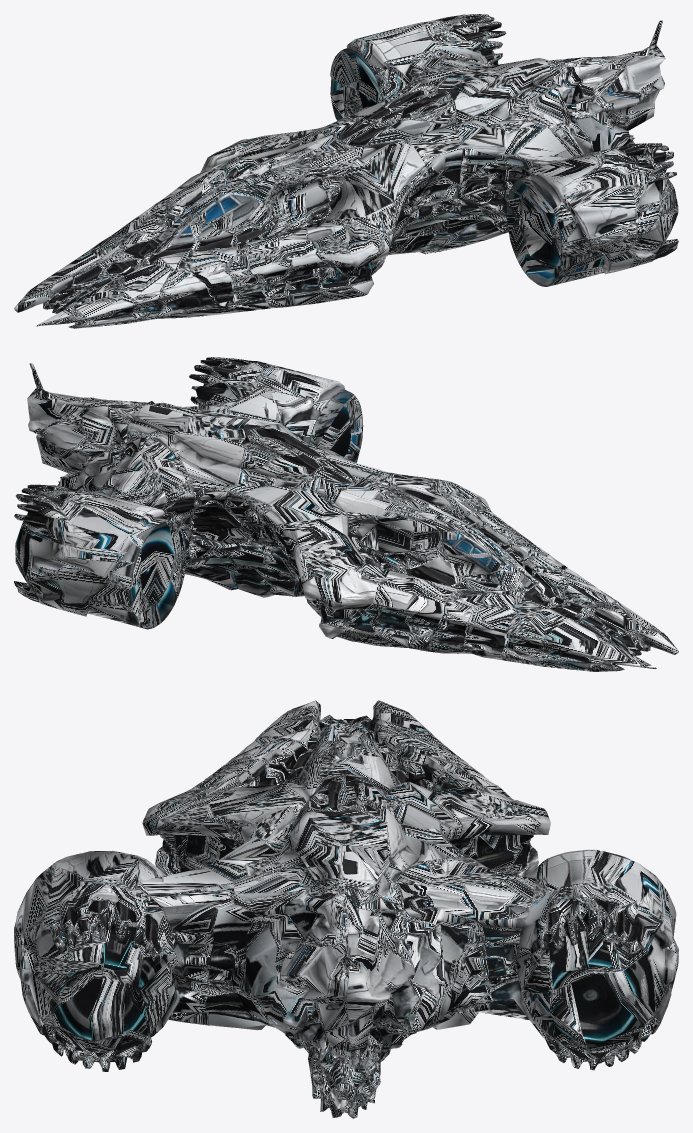
Rendered from mx_dr_ship.glb.
3 views of the same model, one above another, from view 1: azimuth 30°, elevation 25°; view 2: azimuth 150°, elevation 25°; view 3: azimuth 270°, elevation 25° (orthographic). The views are drawn at different scales.
Parts seen in each view (by area): view 1: Mesh_0; view 2: Mesh_0; view 3: Mesh_0.
Part boxes in pixels (left/top/right/bottom): Mesh_0: left=14, top=14, right=678, bottom=328; Mesh_0: left=14, top=357, right=678, bottom=671; Mesh_0: left=14, top=700, right=678, bottom=1118.
Size of the model in its own units: 1.9 by 0.466 by 1.24.
1 material, 1 textured.
